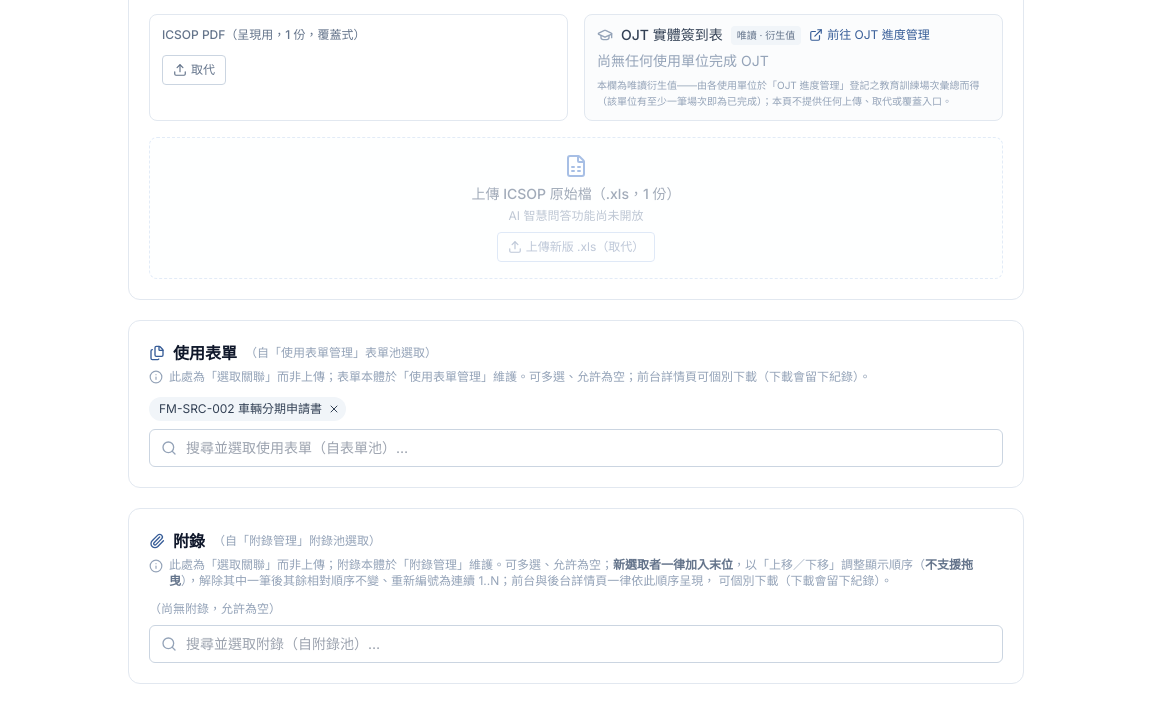
Test: DocumentEditPage — 使用表單之編號顯示與搜尋（2026-08-26 UX ②） › 下拉可用編號搜尋，且已關聯者不重複出現
(page scrolled)
Type "FM-SRC" into the dropdown labelled "使用表單" at coordinates (576, 448), box [149,428,1003,466]
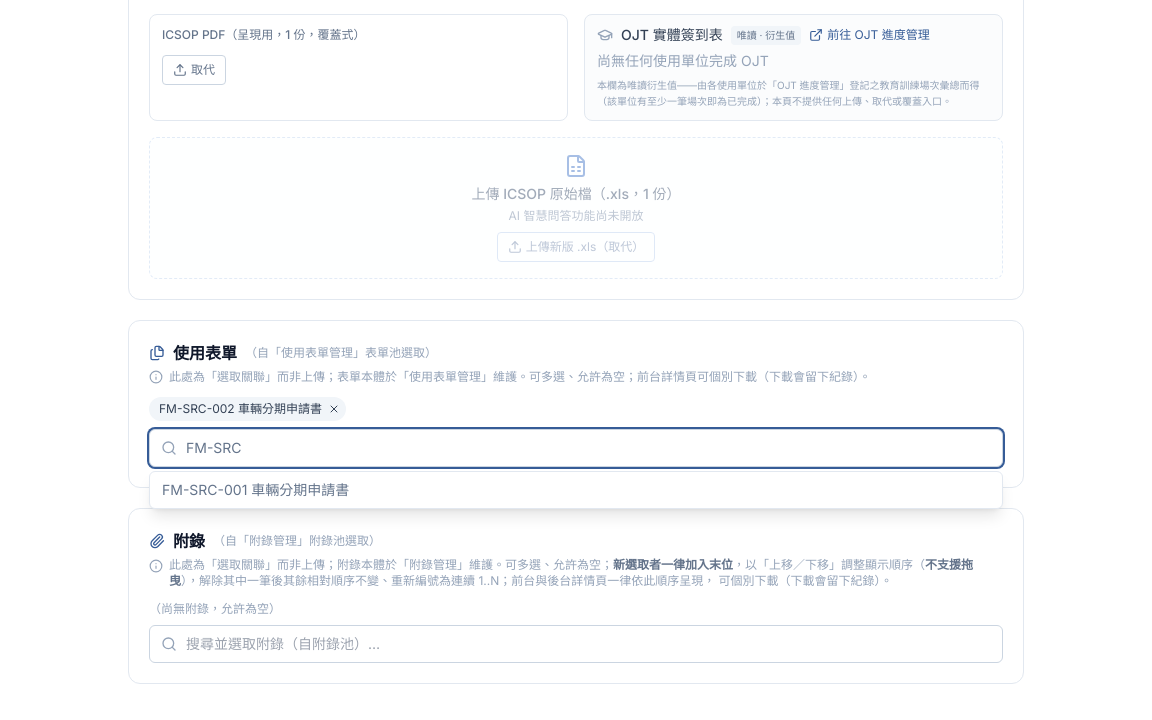
Now the options read "FM-SRC-001 車輛分期申請書", in this order, box [150,472,1002,508]
